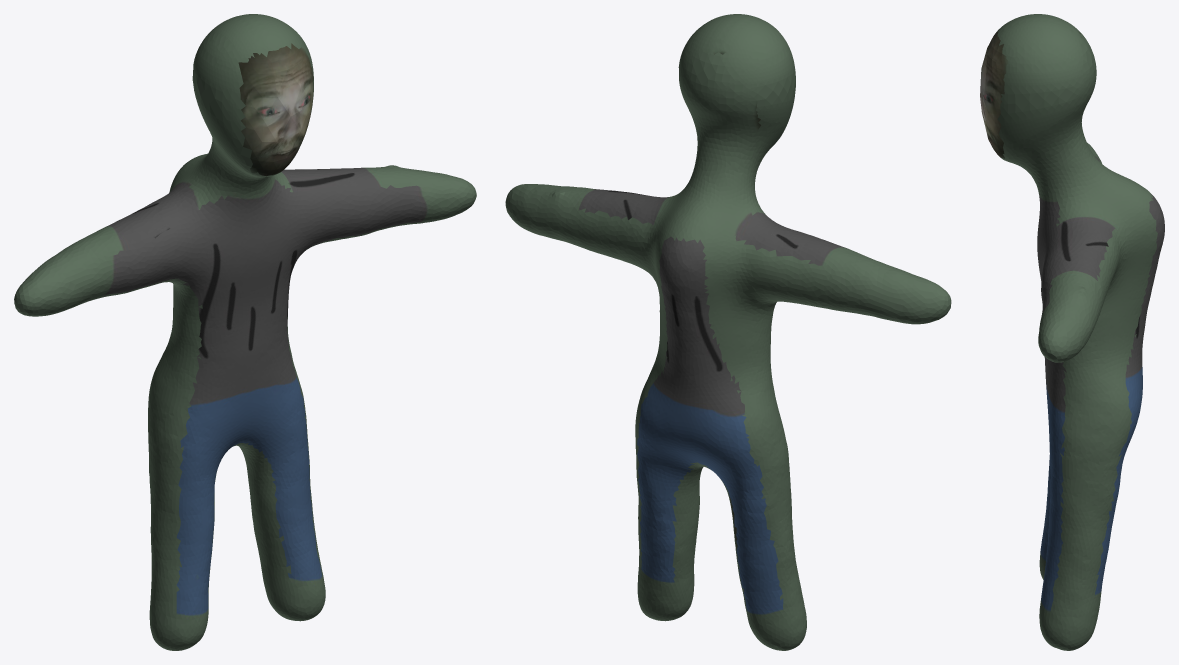
The model's file is Niels zombie.fbx.
3 renders of one model, left to right at view 1: azimuth 30°, elevation 25°; view 2: azimuth 150°, elevation 25°; view 3: azimuth 270°, elevation 25°, orthographic. The views are drawn at different scales.
Parts seen in each view (by area): view 1: zombie teacher hunch; view 2: zombie teacher hunch; view 3: zombie teacher hunch.
Boxes of the visible parts, x1,y1,x2,y2 form: zombie teacher hunch: (14, 14, 476, 650); zombie teacher hunch: (505, 14, 951, 650); zombie teacher hunch: (980, 14, 1164, 650).
Size of the model in its own units: 828 by 1079 by 302.
